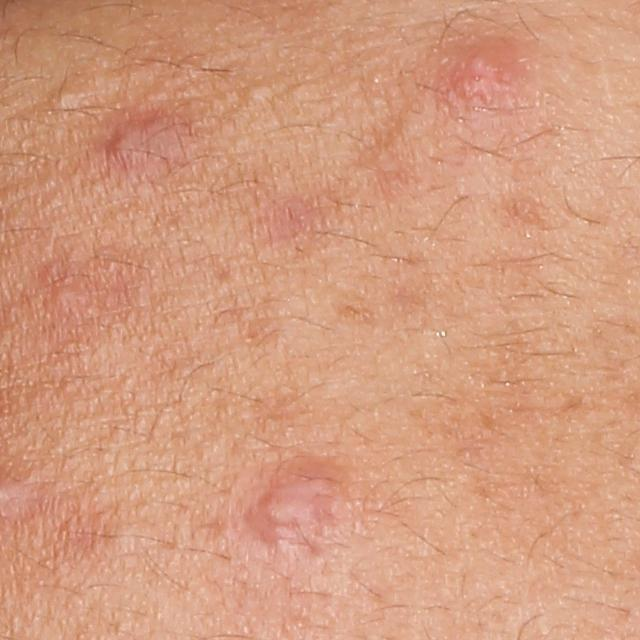comedo: (49, 86, 82, 117), (246, 84, 273, 102), (51, 286, 76, 305)
papule: (247, 454, 363, 554), (439, 36, 517, 112), (109, 117, 160, 160)
